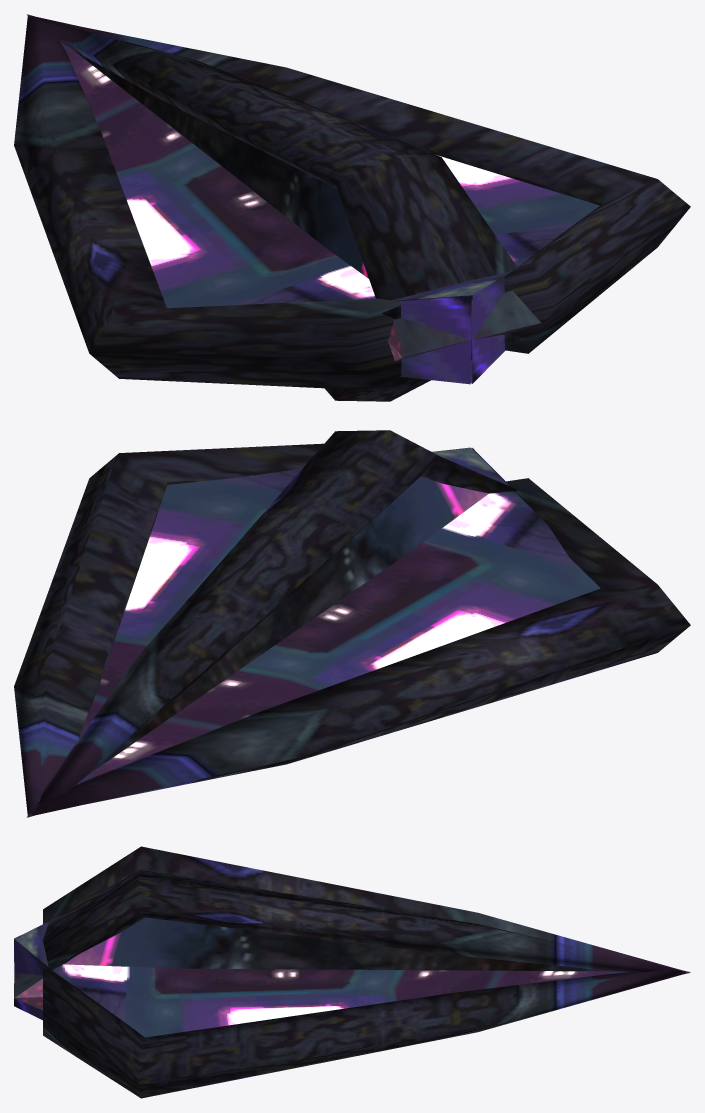
The model's file is Hyd_Stiger.fbx.
3 renders of one model, top to bottom at view 1: azimuth 30°, elevation 25°; view 2: azimuth 150°, elevation 25°; view 3: azimuth 270°, elevation 25°, orthographic. The views are drawn at different scales.
Visible parts, largest first — view 1: Hyd_Stiger; view 2: Hyd_Stiger; view 3: Hyd_Stiger.
Boxes of the visible parts, bbox=[...] form: Hyd_Stiger: bbox=[14, 14, 690, 401]; Hyd_Stiger: bbox=[14, 430, 690, 817]; Hyd_Stiger: bbox=[14, 846, 690, 1098].
Bounding box in the file's own units: 45.48 × 17.56 × 58.22.
Materials: 1 (1 with a texture image).
